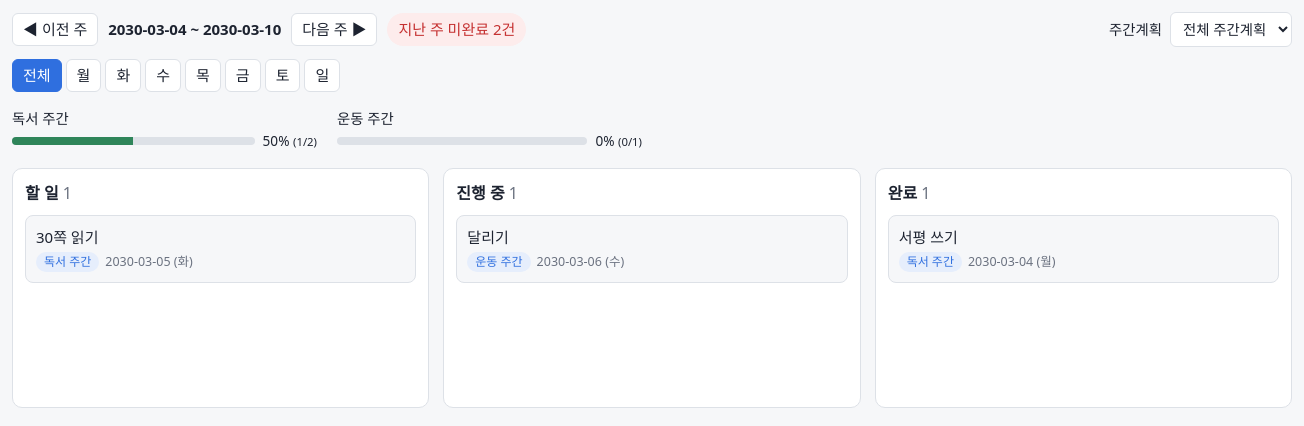
Test: Board › shows the previous-week incomplete badge and moves to the previous week on click
Click the button "지난 주 미완료 2건".
click(457, 30)  # box [387,13,526,46]
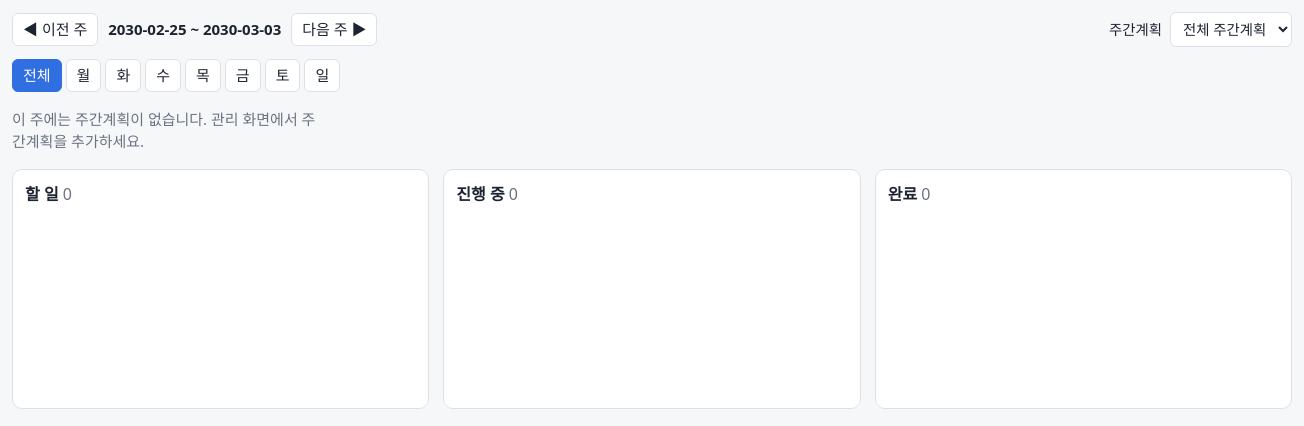
Check: the text with test id "week-range" reads "2030-02-25 ~ 2030-03-03", box [108,18,281,41]
